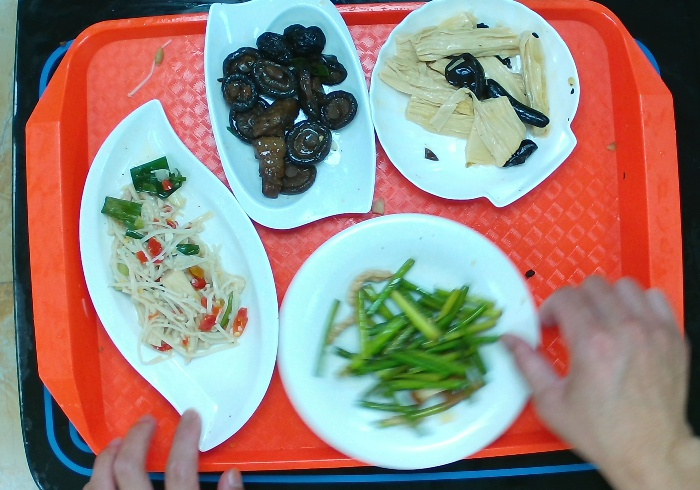RJxy-Bei_Ke_Wan: (368, 1, 590, 215)
RJxy-Jian_Jiao_Fang_Die: (206, 1, 382, 234)
RJxy-Jian_Jiao_Pan: (80, 100, 274, 458)
RJxy-Yuan_Pan: (278, 212, 542, 472)
